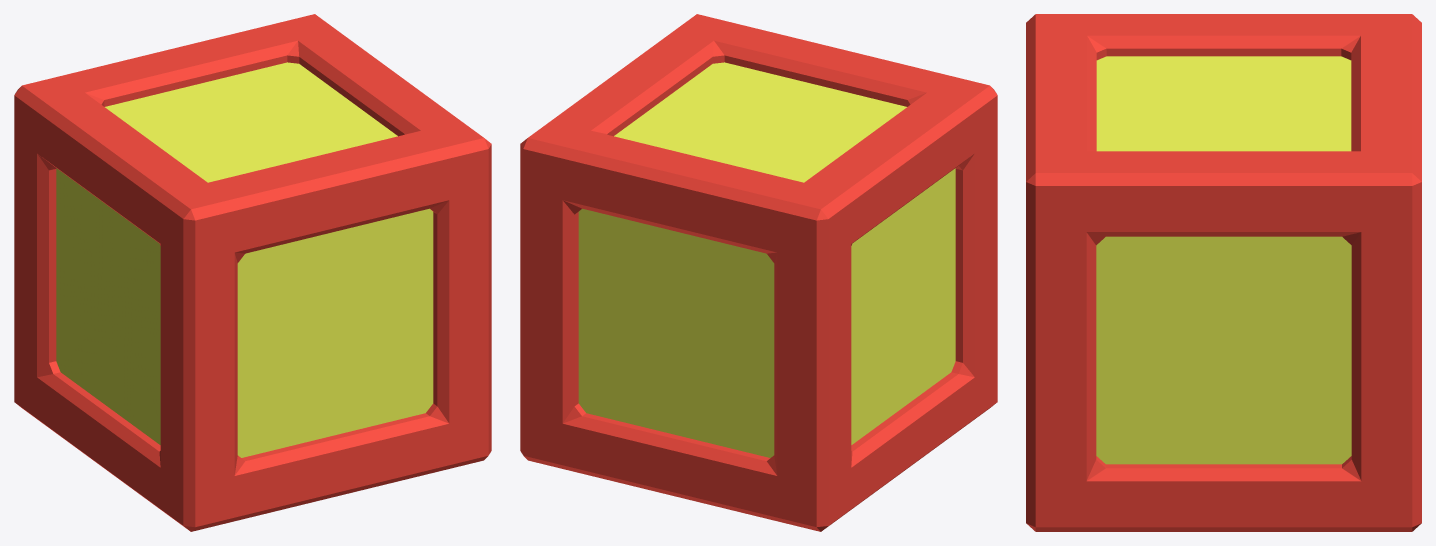
Rendered from crate.glb.
The picture shows the model from 3 angles, left to right: view 1: azimuth 30°, elevation 25°; view 2: azimuth 150°, elevation 25°; view 3: azimuth 270°, elevation 25°; orthographic projection. The views are drawn at different scales.
Parts seen in each view (by area): view 1: Cube; view 2: Cube; view 3: Cube.
Part boxes in pixels (x1,y1,x2,y2): Cube: [14, 14, 491, 531]; Cube: [520, 14, 997, 531]; Cube: [1026, 14, 1421, 531].
Size of the model in its own units: 1 by 1 by 1.
Materials: 1 (1 with a texture image).
